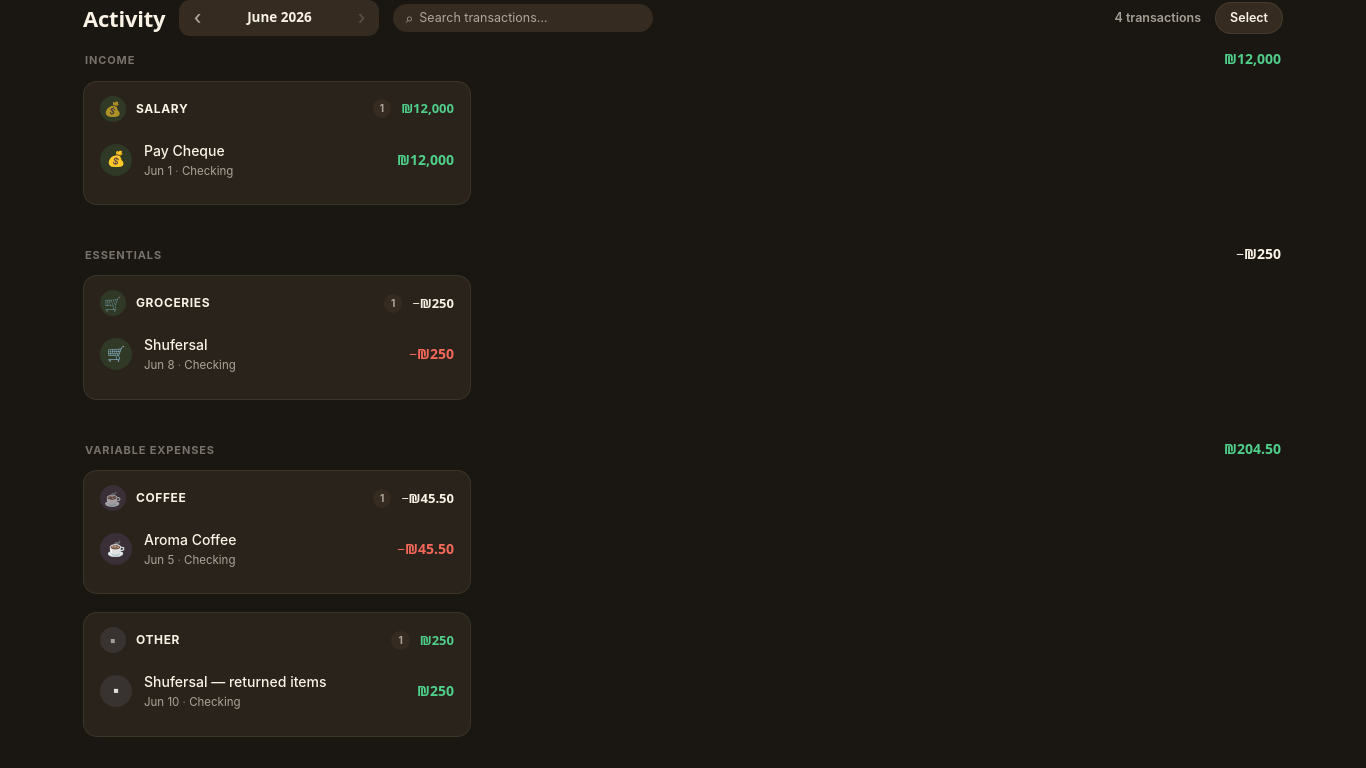
ActivityView — refund linking › opening a positive-amount transaction (a refund) flips the picker to expense candidates
This screenshot has width=1366, height=768.
# Click the refund row itself (t-r1, "Shufersal — returned items", +250)
Click the text "Shufersal — returned items" at [235, 682], box top-left (144, 673), bottom-right (326, 690)
(page scrolled)
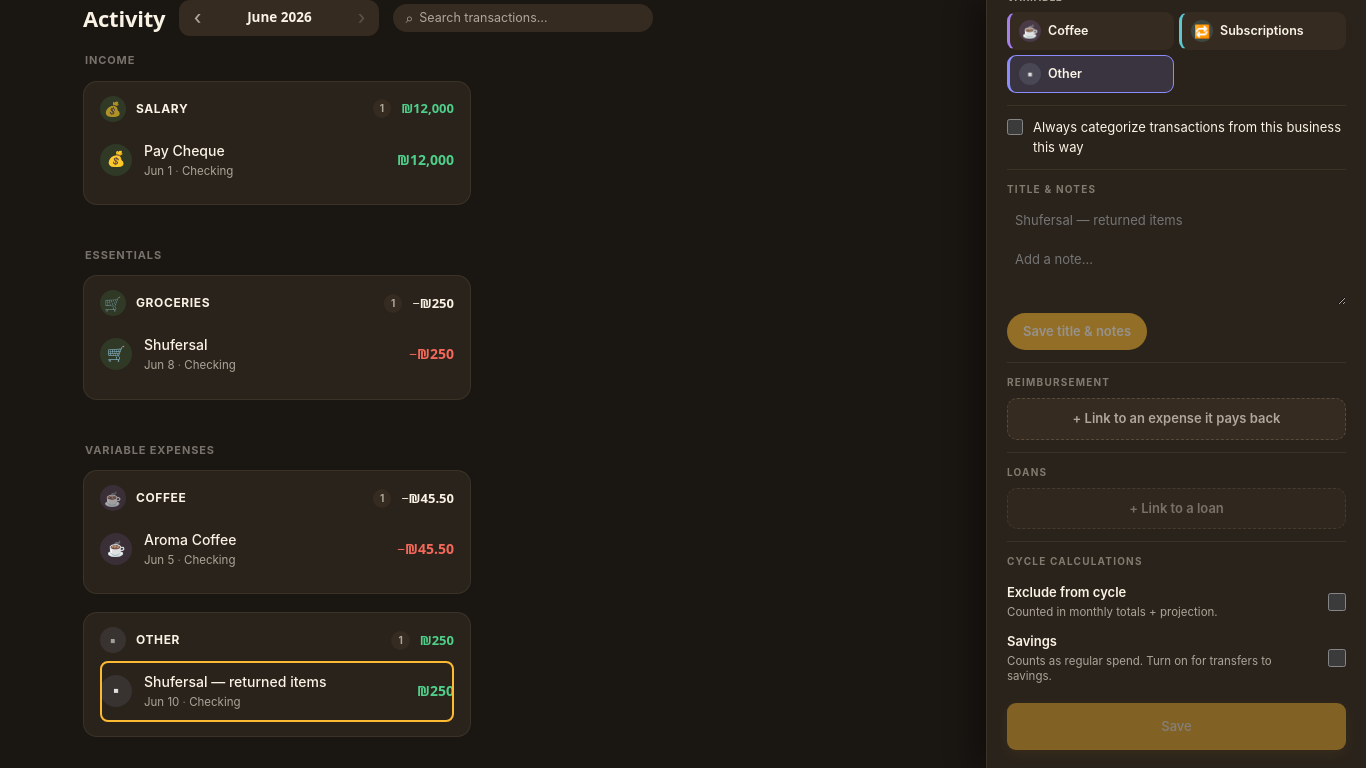
Click the button "+ Link to an expense it pays back" at [1176, 419], box top-left (1007, 398), bottom-right (1346, 440)
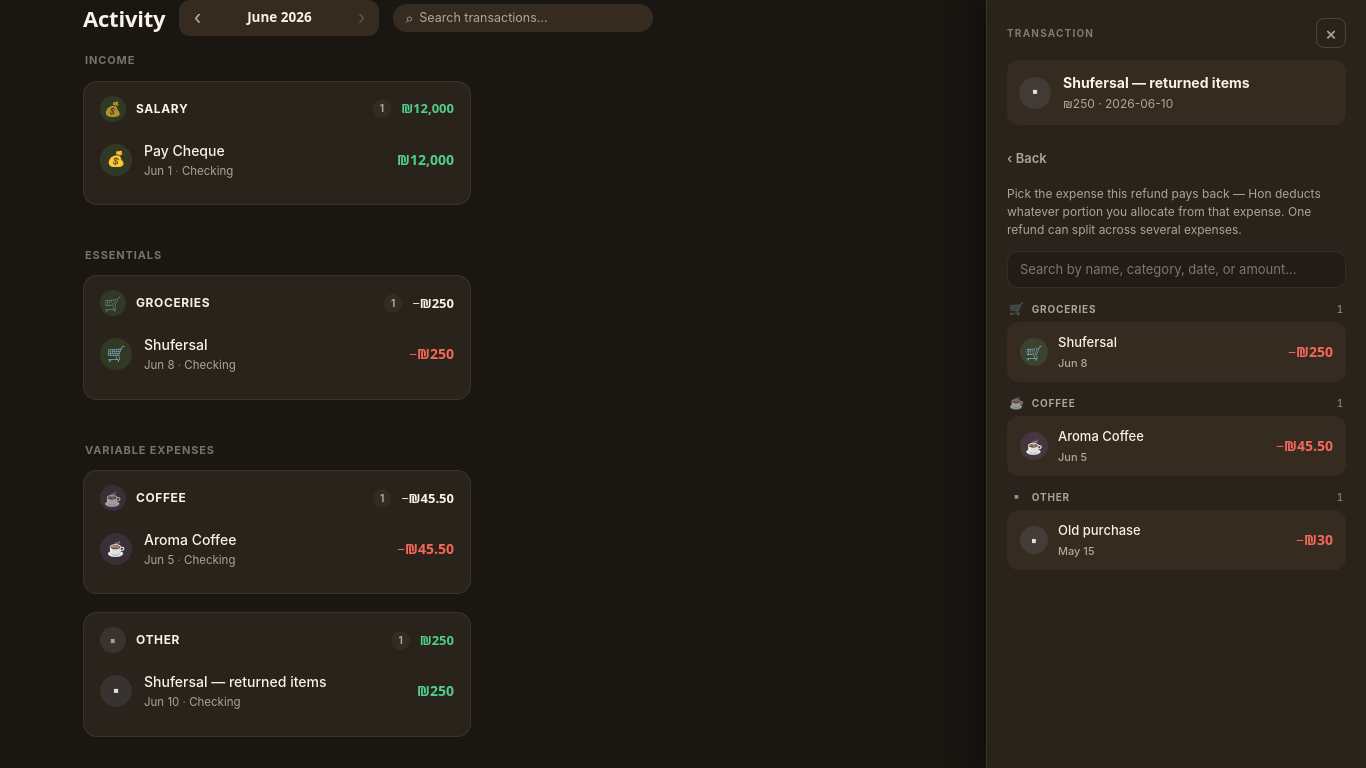
Expected: the button "🛒 Shufersal Jun 8 −₪250" is shown, top-left (1007, 322), bottom-right (1346, 382)
Expected: the button "☕ Aroma Coffee Jun 5 −₪45.50" is shown, top-left (1007, 416), bottom-right (1346, 476)
